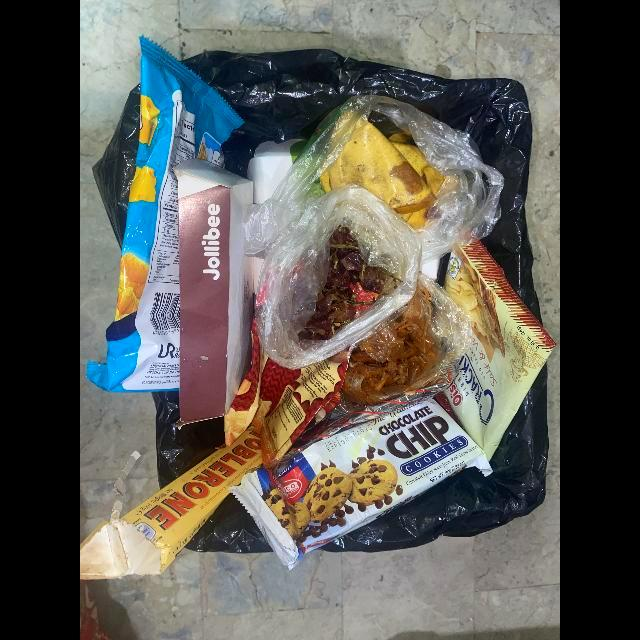cardboard: (80, 426, 262, 581), (174, 160, 254, 424), (247, 139, 307, 208)
food_wrapper: (86, 37, 243, 395), (229, 400, 492, 570), (437, 242, 556, 462), (224, 320, 348, 464)
left_over_food: (342, 283, 438, 404)
